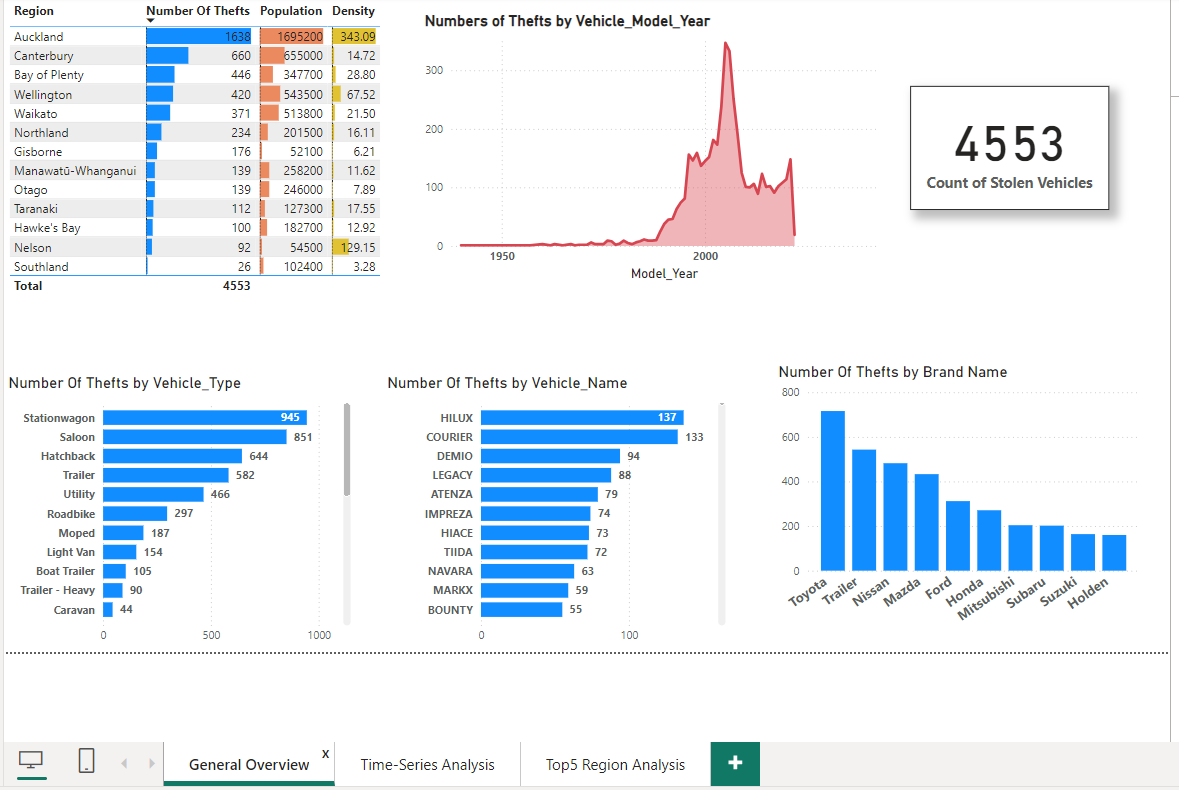

This screenshot's page, from the dashboard's own definition file:
{"tool":"powerbi","page":{"name":"General Overview","canvas":[1280,720],"ordinal":0},"visuals":[{"type":"tableEx","fields":{"Values":["stolen_vehicles_db locations.region","stolen_vehicles_db stolen_vehicles.Number Of Thefts","stolen_vehicles_db locations.population","stolen_vehicles_db locations.density"]},"box":[0,0,429.5,334.8],"z":0},{"type":"card","fields":{"Values":["Count(stolen_vehicles_db stolen_vehicles.vehicle_id)"]},"box":[994.3,98.6,218.6,135.7],"z":1000},{"type":"barChart","fields":{"Category":["stolen_vehicles_db stolen_vehicles.vehicle_type","stolen_vehicles_db stolen_vehicles.vehicle_desc"],"Y":["stolen_vehicles_db stolen_vehicles.Number Of Thefts"]},"box":[0,414.3,385.7,305.7],"z":2000},{"type":"barChart","fields":{"Category":["stolen_vehicles_db stolen_vehicles.vehicle_desc"],"Y":["stolen_vehicles_db stolen_vehicles.Number Of Thefts"]},"box":[415.7,414.3,381.4,305.7],"z":3000},{"type":"areaChart","fields":{"Category":["stolen_vehicles_db stolen_vehicles.model_year"],"Y":["CountNonNull(stolen_vehicles_db stolen_vehicles.vehicle_id)"]},"box":[456.9,16.5,510.5,301.9],"z":4000},{"type":"columnChart","fields":{"Category":["stolen_vehicles_db make_details.make_name"],"Y":["stolen_vehicles_db stolen_vehicles.Number Of Thefts"]},"box":[845.3,402.1,406.2,306],"z":5000}]}

Visuals, with their boxes on the page's 1280x720 design canvas (x1, y1, x2, y2). These are canvas units, not pixel positions in the 1179x790 screenshot, which may show the page scaled, cropped or inside an application window:
tableEx - stolen_vehicles_db locations.region x stolen_vehicles_db stolen_vehicles.Number Of Thefts: [left=0, top=0, right=430, bottom=335]
card - Count(stolen_vehicles_db stolen_vehicles.vehicle_id): [left=994, top=99, right=1213, bottom=234]
barChart - stolen_vehicles_db stolen_vehicles.vehicle_type x stolen_vehicles_db stolen_vehicles.vehicle_desc: [left=0, top=414, right=386, bottom=720]
barChart - stolen_vehicles_db stolen_vehicles.vehicle_desc x stolen_vehicles_db stolen_vehicles.Number Of Thefts: [left=416, top=414, right=797, bottom=720]
areaChart - stolen_vehicles_db stolen_vehicles.model_year x CountNonNull(stolen_vehicles_db stolen_vehicles.vehicle_id): [left=457, top=16, right=967, bottom=318]
columnChart - stolen_vehicles_db make_details.make_name x stolen_vehicles_db stolen_vehicles.Number Of Thefts: [left=845, top=402, right=1252, bottom=708]
